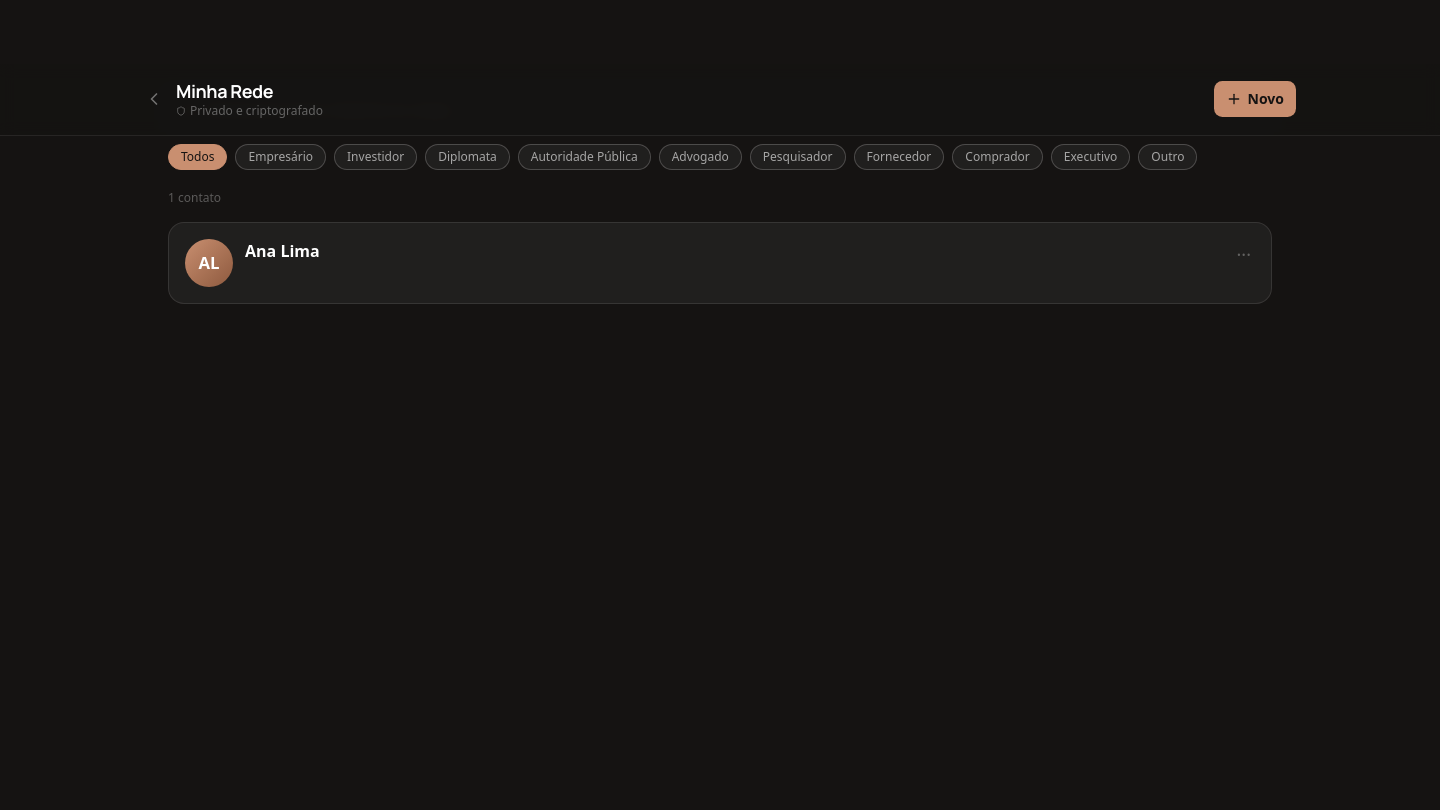
Test: Network — seção Possui / Procura no detalhe do contato › lista o que o chat registrou, com os rótulos e a categoria
Step 1. Click the text "Ana Lima" → x=282, y=250, box [245,238,320,262]
(page scrolled)
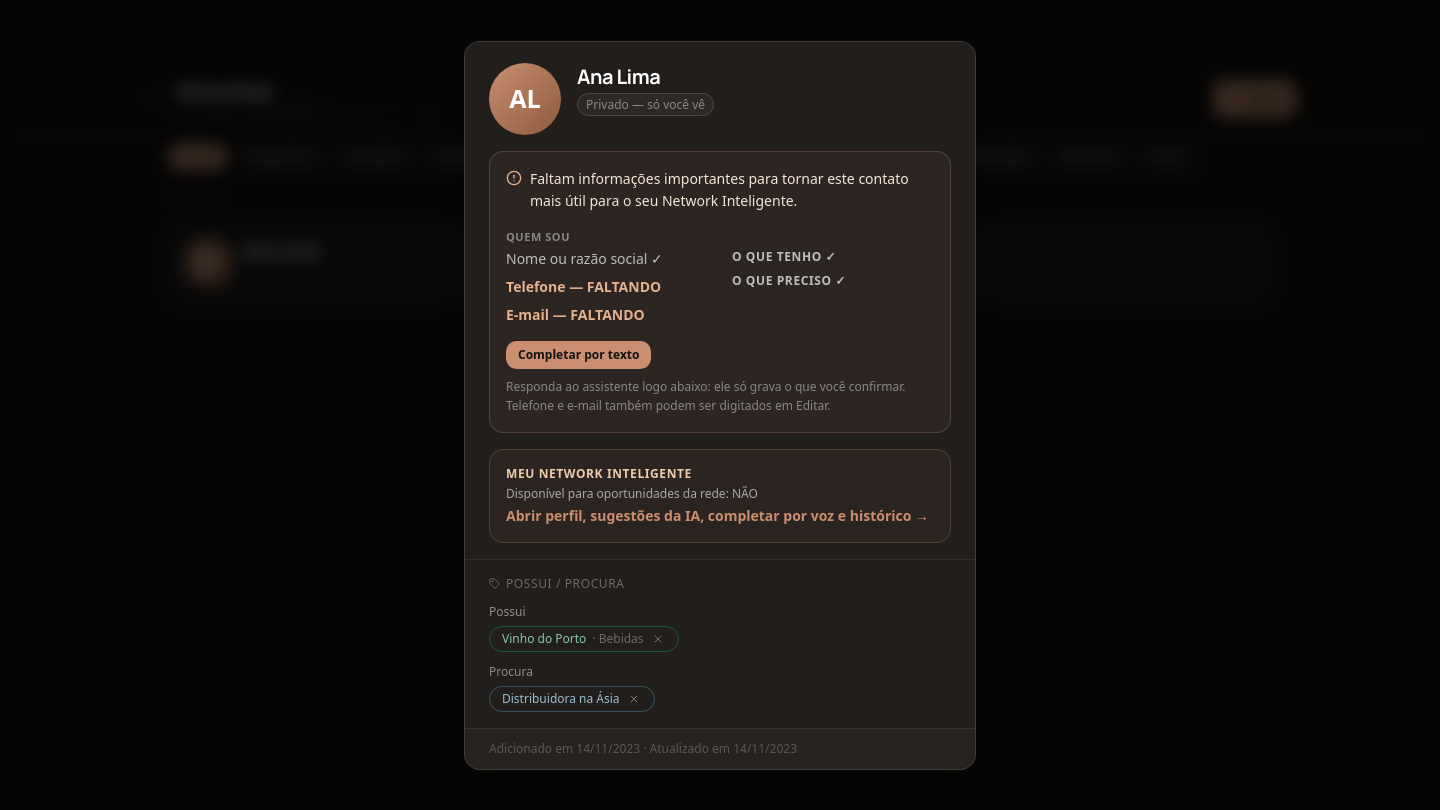
Check: the text "Possui / Procura" is shown, box [489,575,624,592]
Check: the text "Possui" is shown, box [489,603,526,620]
Check: the text "Procura" is shown, box [489,663,533,680]
